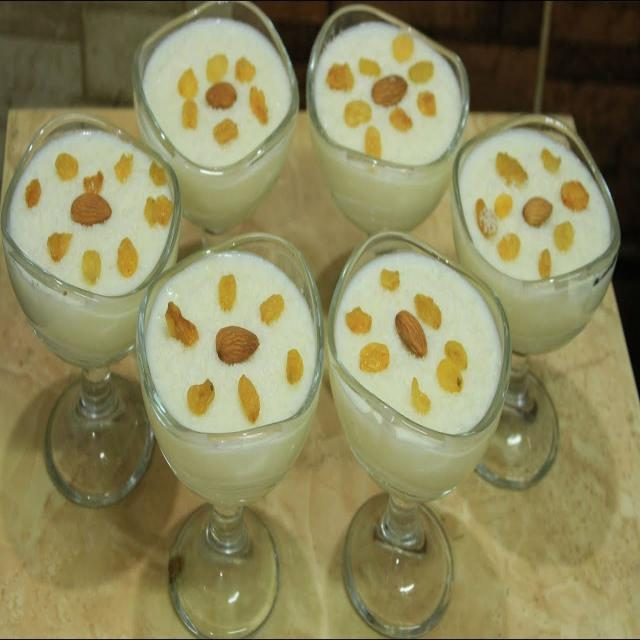roz blabn: (145, 246, 319, 476), (339, 249, 501, 463), (4, 127, 176, 303), (137, 13, 298, 182), (457, 125, 617, 292), (315, 20, 463, 180)
